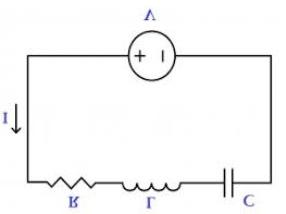Capacitor: (205, 158, 242, 201)
